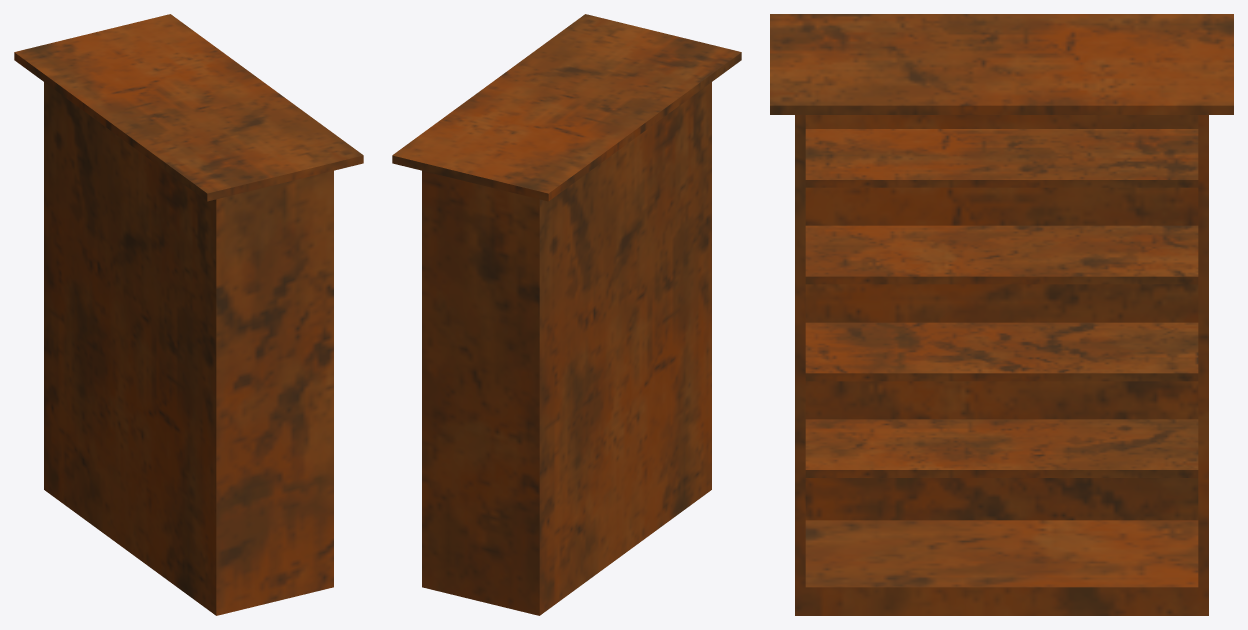
File: Bookcase_SM.fbx
The picture shows the model from 3 angles, left to right: view 1: azimuth 30°, elevation 25°; view 2: azimuth 150°, elevation 25°; view 3: azimuth 270°, elevation 25°; orthographic projection. The views are drawn at different scales.
Visible parts, largest first — view 1: BookCase; view 2: BookCase; view 3: BookCase.
Part boxes in pixels (x1,y1,x2,y2): BookCase: (14,14,363,615); BookCase: (392,14,741,615); BookCase: (770,14,1233,615).
Bounding box in the file's own units: 87.69 × 233 × 188.
